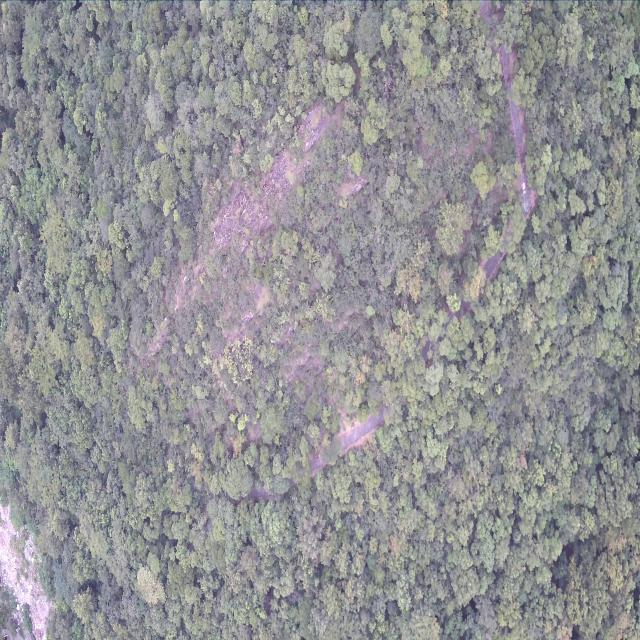UAV: (279, 66, 283, 72)
